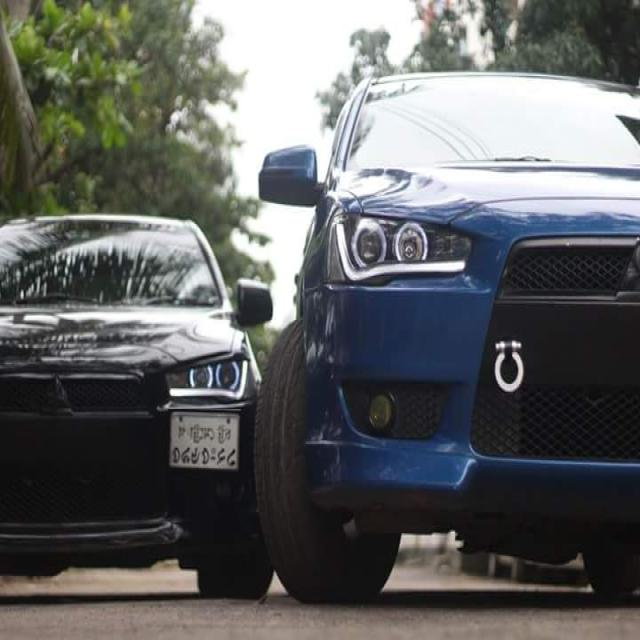numberplate: (168, 409, 241, 472)
